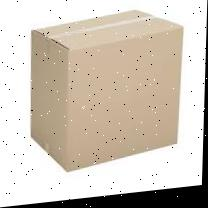cube: (28, 8, 186, 177)
